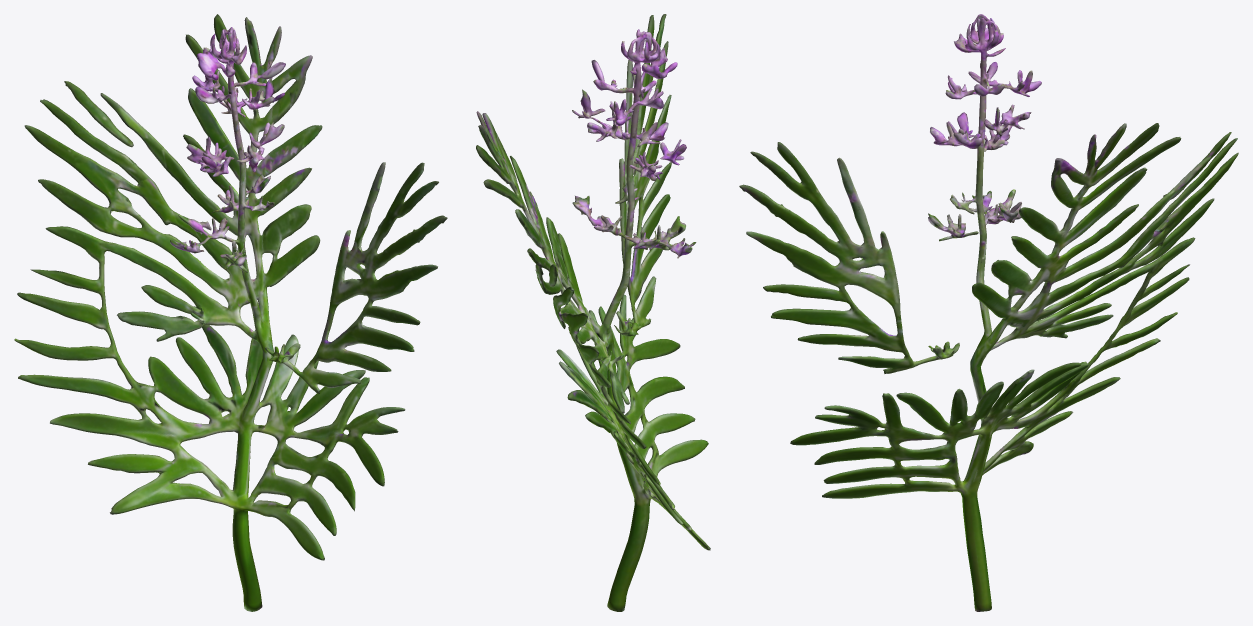
File: Alfalfa_Blossom(made).glb
3 renders of one model, left to right at view 1: azimuth 30°, elevation 25°; view 2: azimuth 150°, elevation 25°; view 3: azimuth 270°, elevation 25°, orthographic.
Bounding box in the file's own units: 0.865 × 1.99 × 1.55.
1 material, 1 textured.
